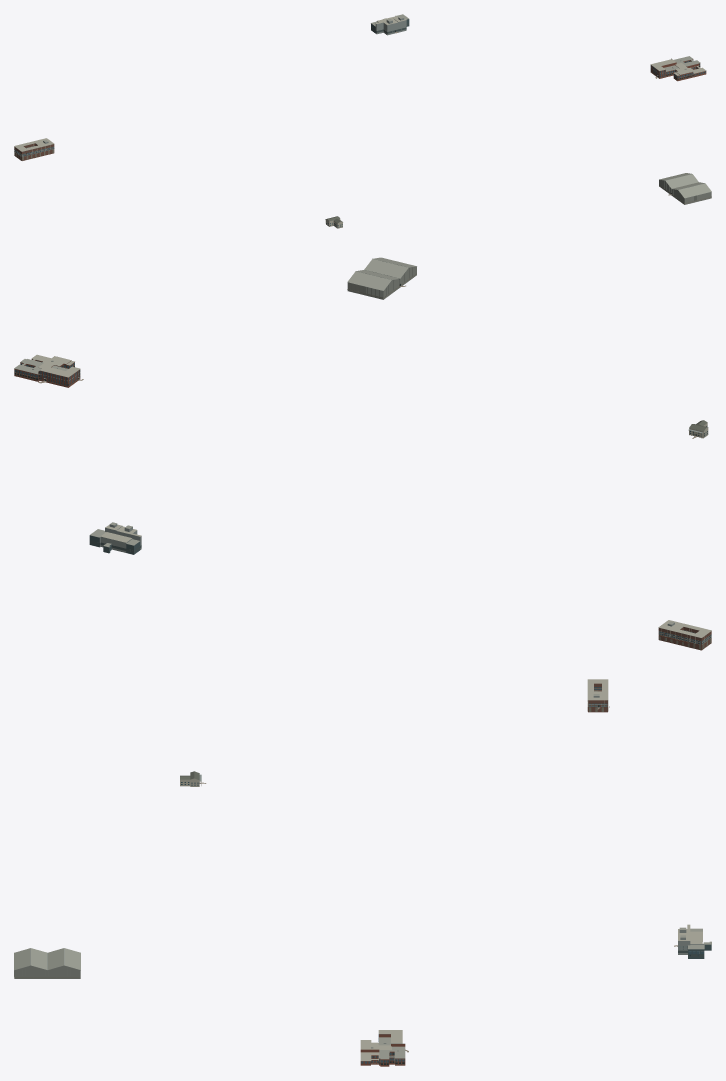
The model's file is site.glb.
The picture shows the model from 3 angles, top to bottom: view 1: azimuth 30°, elevation 25°; view 2: azimuth 150°, elevation 25°; view 3: azimuth 270°, elevation 25°; orthographic projection. The views are drawn at different scales.
Parts seen in each view (by area): view 1: roof-a55aea46, roof-29dae856, roof-5fd54bd8, roof-2518e2a2; view 2: roof-a55aea46, roof-29dae856, roof-2518e2a2, roof-5fd54bd8; view 3: roof-a55aea46, roof-29dae856, roof-2518e2a2, roof-5fd54bd8.
Part boxes in pixels (left/top/right/bottom): roof-a55aea46: left=659, top=173, right=711, bottom=204; roof-29dae856: left=650, top=56, right=706, bottom=81; roof-5fd54bd8: left=14, top=138, right=54, bottom=160; roof-2518e2a2: left=371, top=14, right=409, bottom=35; roof-a55aea46: left=347, top=257, right=416, bottom=299; roof-29dae856: left=14, top=354, right=80, bottom=387; roof-2518e2a2: left=89, top=522, right=141, bottom=554; roof-5fd54bd8: left=658, top=620, right=711, bottom=650; roof-a55aea46: left=14, top=948, right=80, bottom=978; roof-29dae856: left=360, top=1030, right=405, bottom=1066; roof-2518e2a2: left=678, top=924, right=711, bottom=958; roof-5fd54bd8: left=587, top=679, right=609, bottom=712.
Bounding box in the file's own units: 1086 × 34 × 840.
